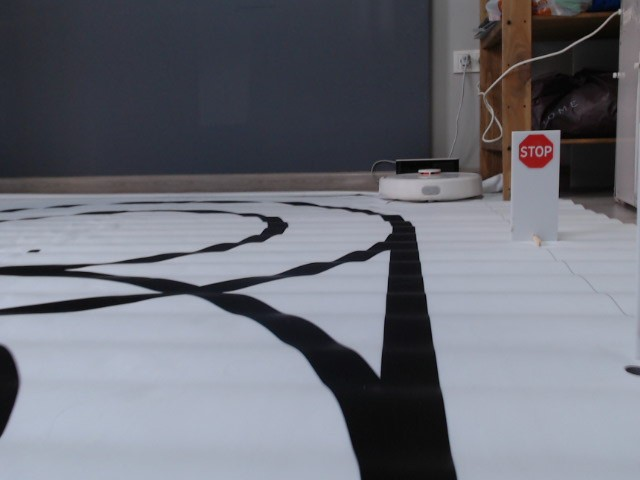Stop: (517, 133, 553, 170)
